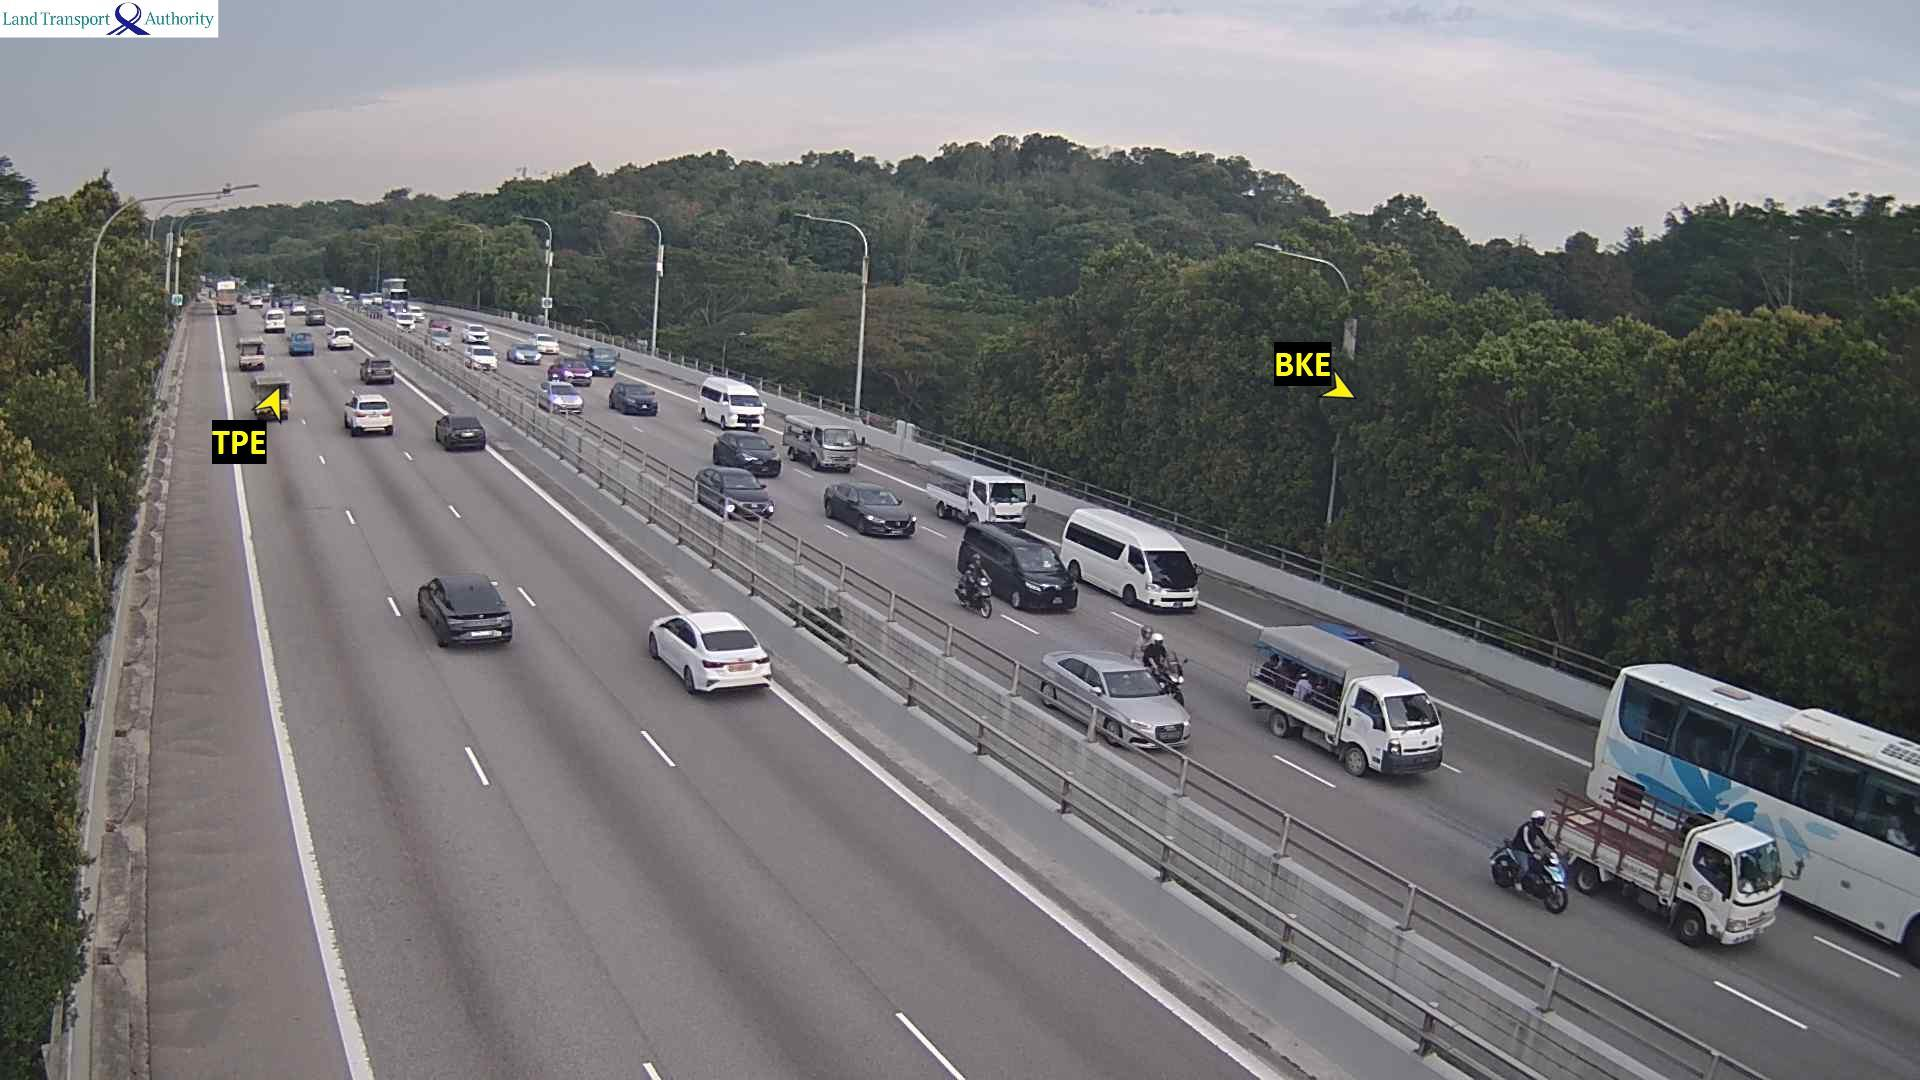incoming: (1693, 841, 1804, 952), (1350, 688, 1443, 778), (1097, 671, 1192, 745), (1011, 543, 1079, 612), (1141, 547, 1201, 613), (855, 488, 918, 539), (716, 472, 775, 517), (973, 477, 1031, 522), (812, 429, 865, 469), (736, 436, 782, 476), (724, 392, 769, 431), (1545, 855, 1571, 916), (621, 382, 658, 415), (1164, 655, 1188, 696), (975, 575, 997, 616), (550, 386, 584, 411), (592, 347, 621, 375), (562, 363, 593, 386), (469, 345, 500, 369), (516, 345, 545, 365), (465, 324, 492, 342), (538, 334, 560, 352)
